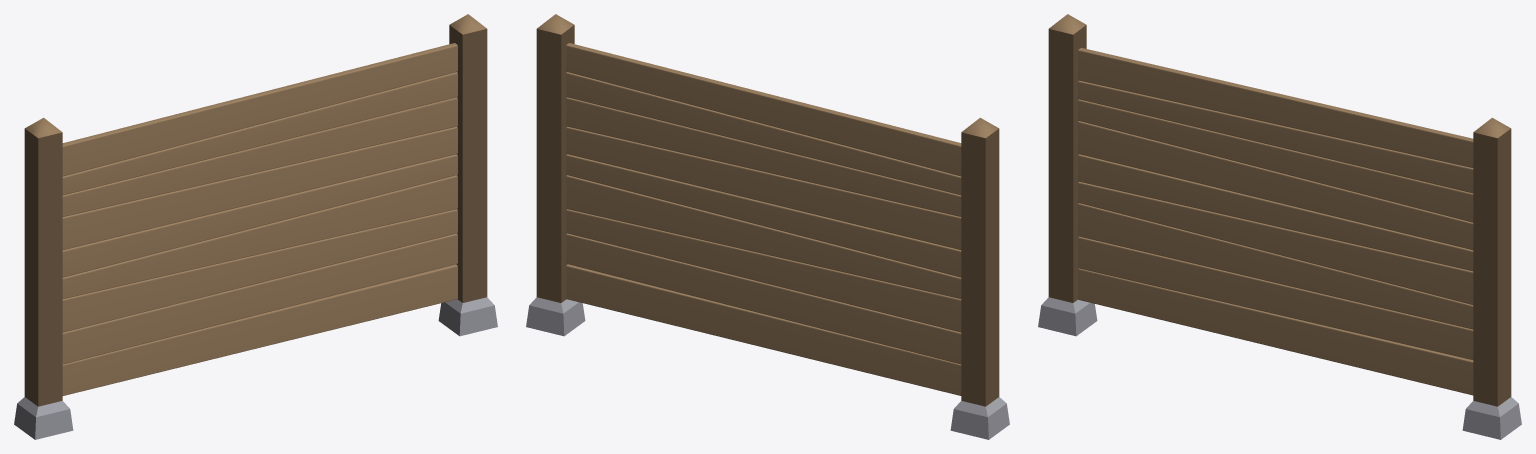
Rendered from mainRoom_board.fbx.
3 views of the same model, side by side, from view 1: azimuth 30°, elevation 25°; view 2: azimuth 150°, elevation 25°; view 3: azimuth 330°, elevation 25° (orthographic).
Parts seen in each view (by area): view 1: board; view 2: board; view 3: board.
Boxes of the visible parts, x1,y1,x2,y2 form: board: [14, 14, 497, 439]; board: [526, 14, 1009, 439]; board: [1038, 14, 1521, 439].
Size of the model in its own units: 79.46 by 50.86 by 6.29.
